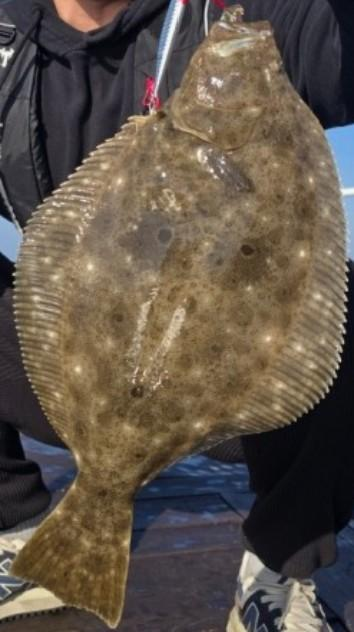fish: (12, 7, 353, 631)
